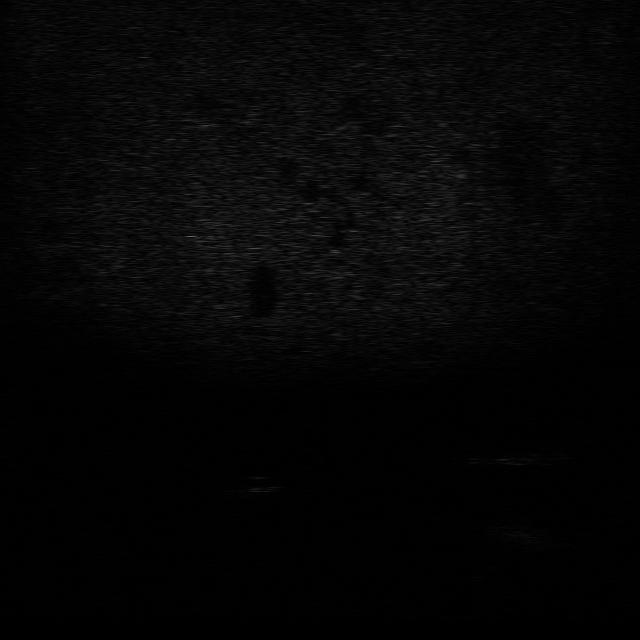ball: (238, 473, 284, 496)
circle cage: (475, 516, 566, 553)
human body: (448, 448, 572, 469)
